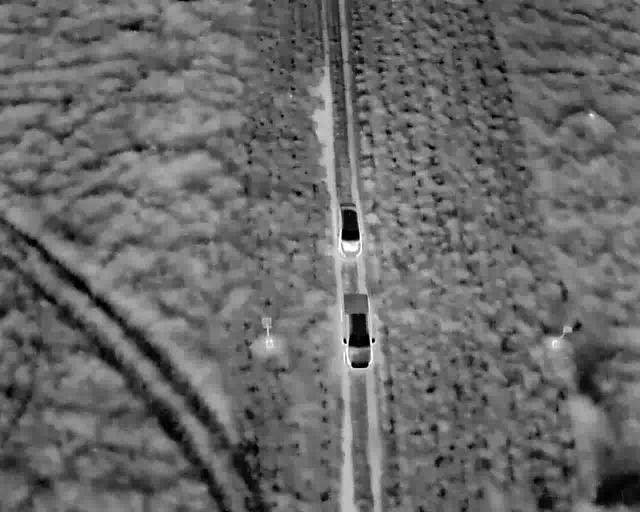car: (339, 290, 376, 370), (334, 201, 363, 258)
